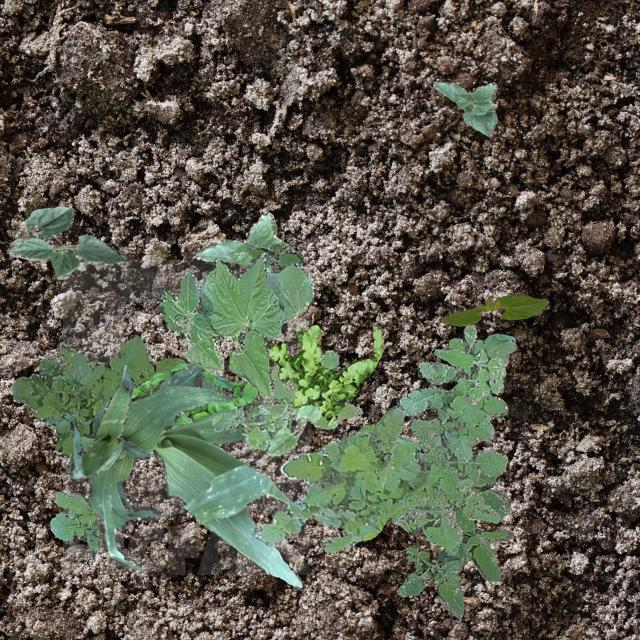crop: (80, 362, 234, 570), (152, 396, 302, 588), (158, 252, 312, 400), (68, 364, 150, 478), (8, 204, 126, 278), (195, 210, 292, 272), (432, 80, 496, 136), (440, 294, 548, 324), (264, 402, 320, 454)
weed: (391, 332, 516, 552), (252, 403, 434, 552), (11, 336, 184, 452), (396, 472, 512, 618), (210, 348, 358, 449), (266, 324, 384, 424), (130, 362, 256, 427), (434, 323, 504, 402), (50, 490, 104, 550), (246, 242, 302, 272)
